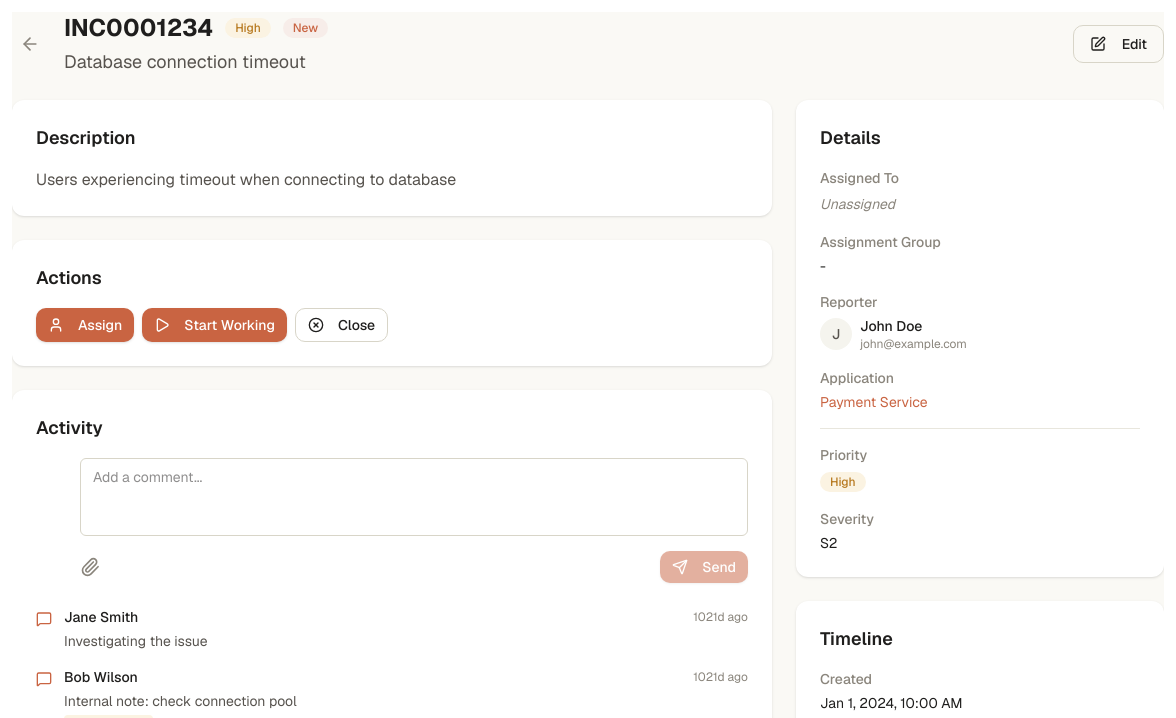
Test case: IssueDetailPage › Edit Mode › switches to edit mode when edit button clicked
This screenshot has width=1176, height=718.
Click the button "Edit" at (1118, 44), box [1073,25,1164,63]
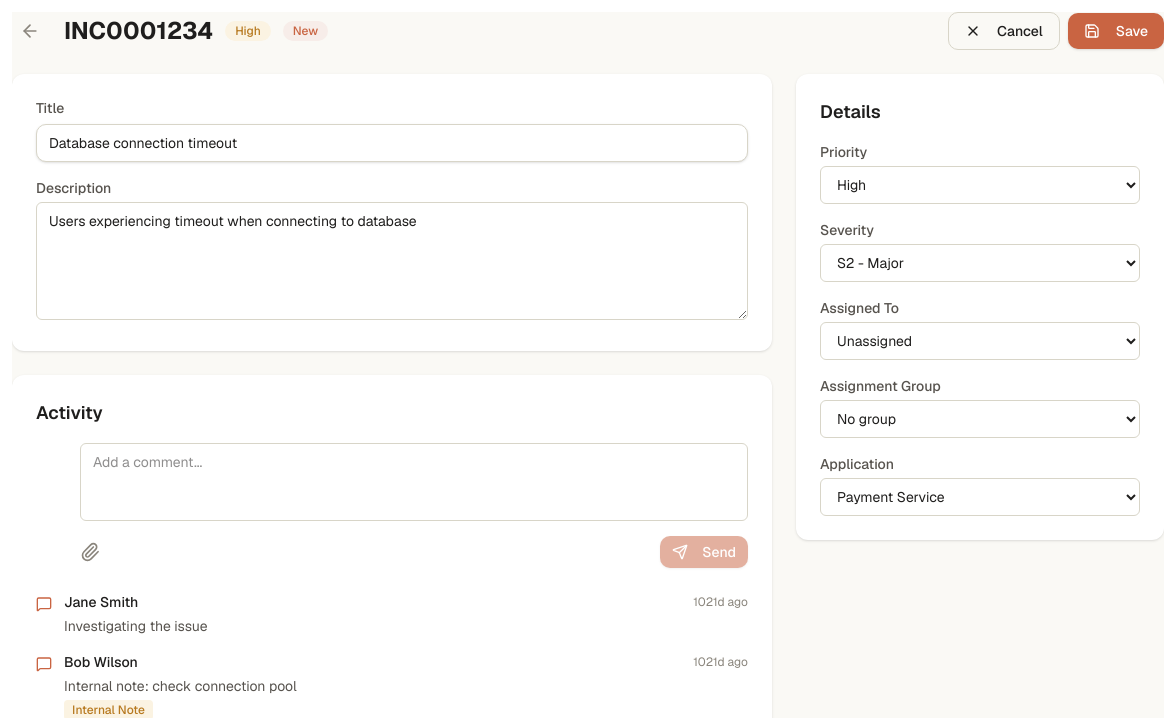
Expected: the button "Save" is shown, [1068,13,1164,49]
Expected: the button "Cancel" is shown, [948,12,1060,50]
